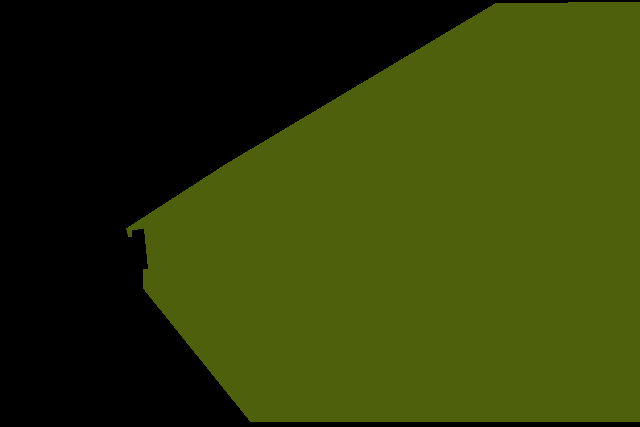Train: (126, 1, 640, 423)
